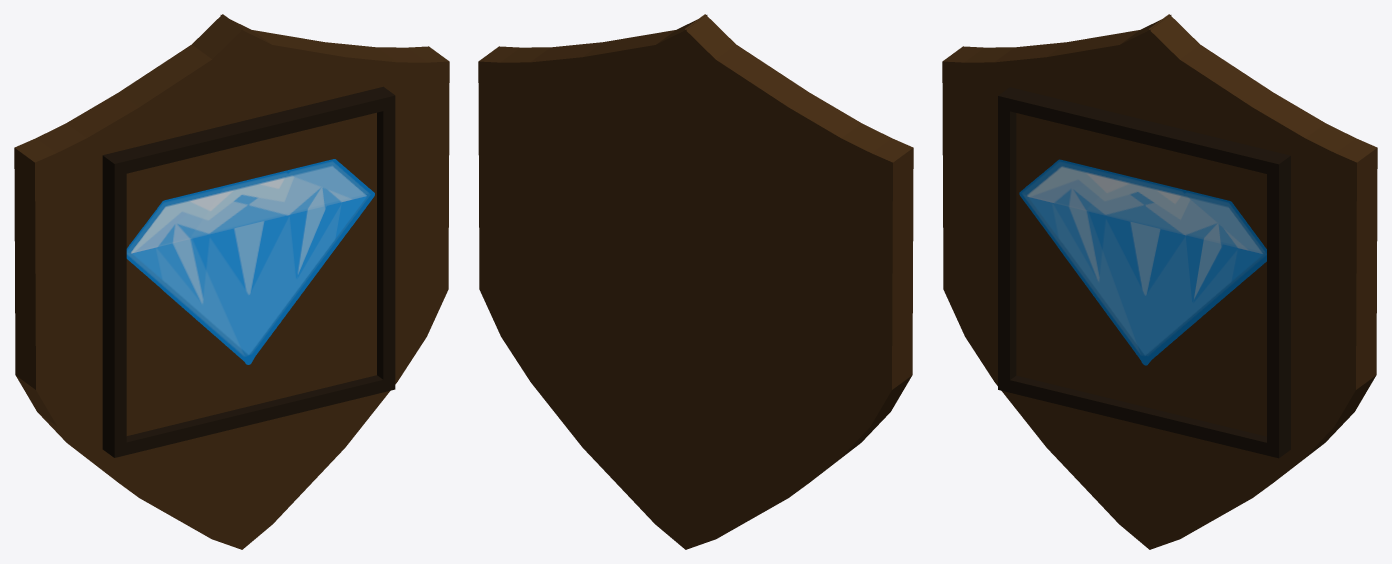
File: Crest_background.fbx
The picture shows the model from 3 angles, left to right: view 1: azimuth 30°, elevation 25°; view 2: azimuth 150°, elevation 25°; view 3: azimuth 330°, elevation 25°; orthographic projection.
Parts seen in each view (by area): view 1: Cube; view 2: Cube; view 3: Cube.
Part boxes in pixels (bbox=[...]): Cube: bbox=[14, 14, 449, 549]; Cube: bbox=[478, 14, 913, 549]; Cube: bbox=[942, 14, 1377, 549].
Size of the model in its own units: 50 by 60 by 6.8.
